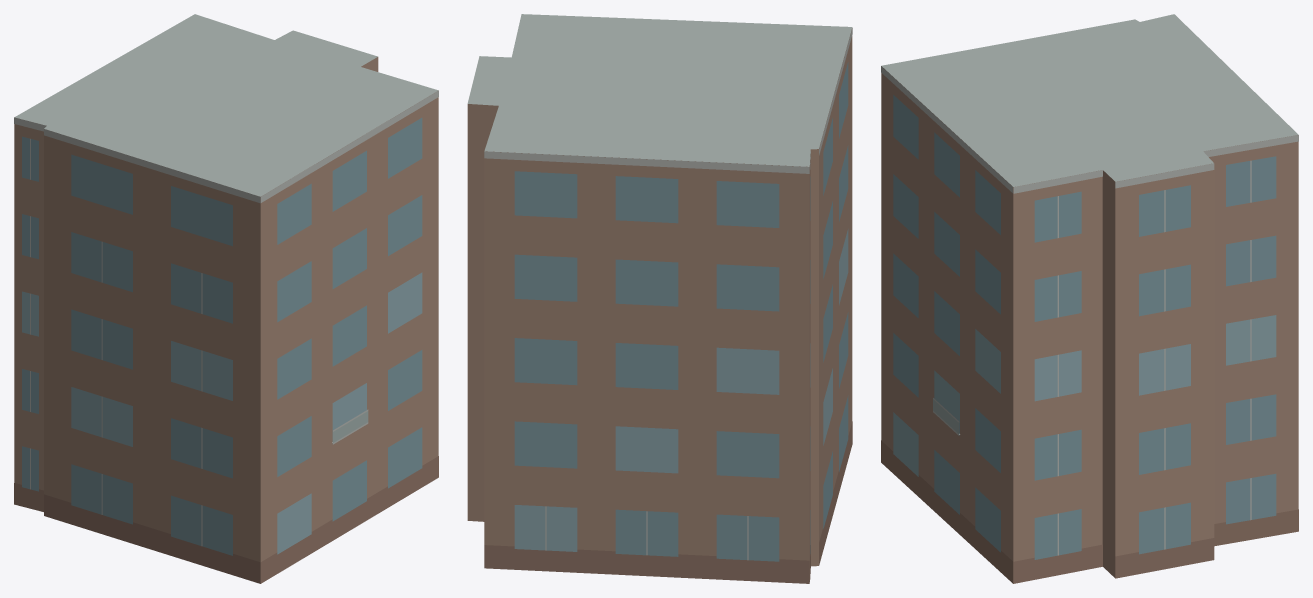
File: survey-upis-32697357.glb
3 views of the same model, side by side, from view 1: azimuth 30°, elevation 25°; view 2: azimuth 150°, elevation 25°; view 3: azimuth 270°, elevation 25° (orthographic). The views are drawn at different scales.
Visible parts, largest first — view 1: survey-upis-32697357.tmp; view 2: survey-upis-32697357.tmp; view 3: survey-upis-32697357.tmp.
Boxes of the visible parts, x1,y1,x2,y2 form: survey-upis-32697357.tmp: (14, 14, 438, 583); survey-upis-32697357.tmp: (467, 14, 852, 583); survey-upis-32697357.tmp: (881, 14, 1298, 583).
Bounding box in the file's own units: 13.44 × 14.35 × 13.7.
